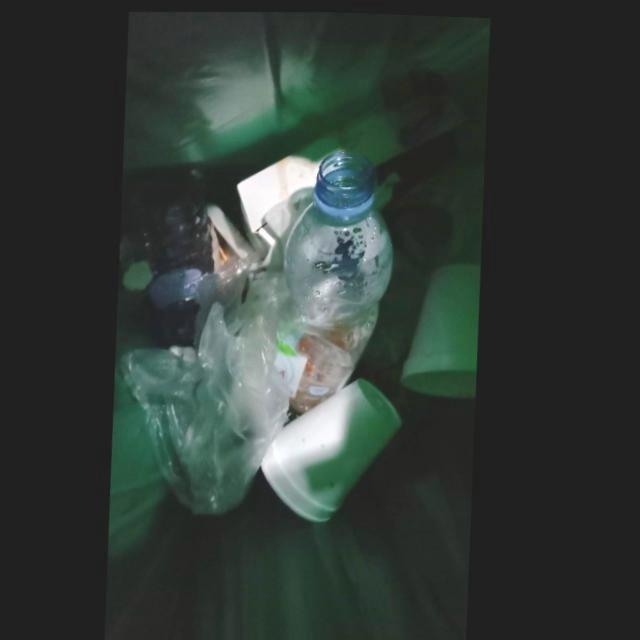plastic_bottle: (279, 144, 397, 414)
